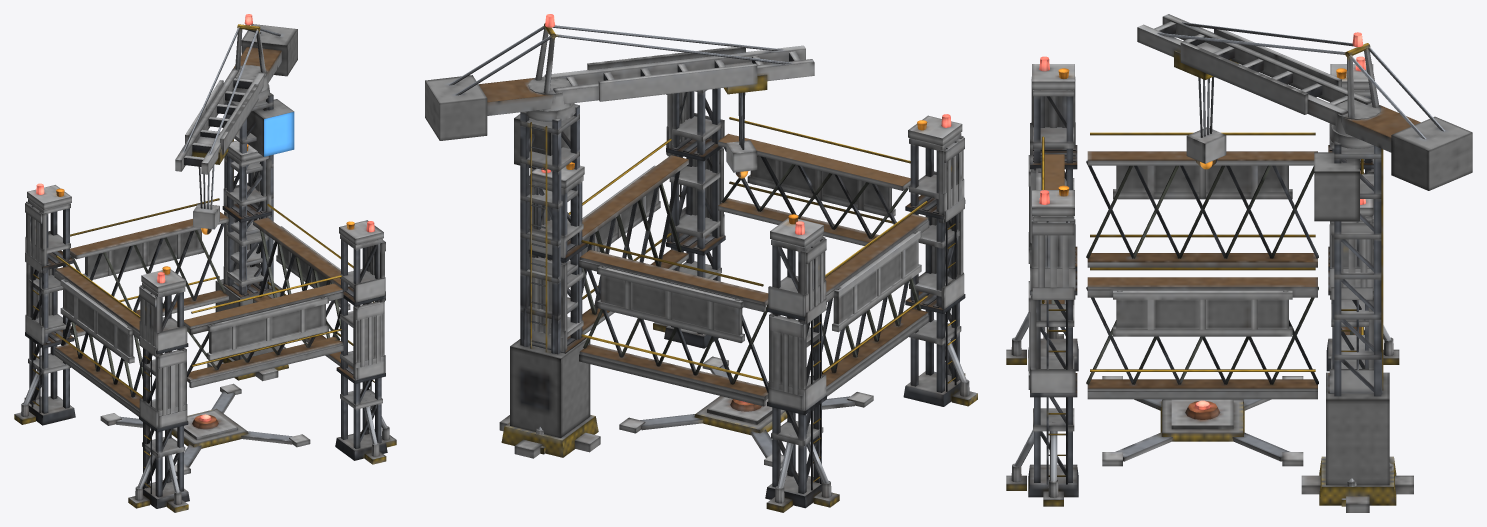
Rendered from soviet_construction_rig.glb.
The picture shows the model from 3 angles, left to right: view 1: azimuth 30°, elevation 25°; view 2: azimuth 150°, elevation 25°; view 3: azimuth 270°, elevation 25°; orthographic projection. The views are drawn at different scales.
Parts seen in each view (by area): view 1: CornerTower_SW, SpanBeam_S, CornerTower_SE, CornerTower_NW, CraneJib, SpanBeam_W, SpanBeam_N, CraneMast, CornerTower_NE, SpanBeam_E, Hull; view 2: CraneJib, CraneMast, SpanBeam_N, CornerTower_NW, CornerTower_SW, SpanBeam_S, SpanBeam_W, CornerTower_SE, SpanBeam_E, CornerTower_NE, Hull; view 3: CraneJib, SpanBeam_E, CraneMast, SpanBeam_W, CornerTower_SE, CornerTower_SW, Hull, CornerTower_NE, CornerTower_NW, SpanBeam_S.
Part boxes in pixels (x1=…): CornerTower_SW: x1=128, y1=266, x2=189, y2=512; SpanBeam_S: x1=184, y1=275, x2=343, y2=387; CornerTower_SE: x1=335, y1=220, x2=396, y2=464; CornerTower_NW: x1=14, y1=183, x2=75, y2=425; CraneJib: x1=175, y1=14, x2=297, y2=234; SpanBeam_W: x1=54, y1=255, x2=142, y2=416; SpanBeam_N: x1=70, y1=198, x2=228, y2=336; CraneMast: x1=207, y1=84, x2=294, y2=381; CornerTower_NE: x1=222, y1=140, x2=271, y2=297; SpanBeam_E: x1=253, y1=204, x2=353, y2=366; Hull: x1=100, y1=383, x2=310, y2=475; CraneJib: x1=425, y1=14, x2=814, y2=178; CraneMast: x1=499, y1=103, x2=600, y2=458; SpanBeam_N: x1=579, y1=240, x2=768, y2=406; CornerTower_NW: x1=765, y1=214, x2=839, y2=512; CornerTower_SW: x1=903, y1=114, x2=977, y2=406; SpanBeam_S: x1=718, y1=117, x2=910, y2=245; SpanBeam_W: x1=813, y1=201, x2=929, y2=396; CornerTower_SE: x1=653, y1=88, x2=725, y2=348; SpanBeam_E: x1=568, y1=138, x2=688, y2=334; CornerTower_NE: x1=528, y1=162, x2=587, y2=454; Hull: x1=619, y1=356, x2=873, y2=468; CraneJib: x1=1137, y1=14, x2=1472, y2=190; SpanBeam_E: x1=1086, y1=267, x2=1318, y2=399; CraneMast: x1=1301, y1=124, x2=1413, y2=512; SpanBeam_W: x1=1086, y1=132, x2=1318, y2=267; CornerTower_SE: x1=1006, y1=185, x2=1078, y2=506; CornerTower_SW: x1=1006, y1=56, x2=1078, y2=371; Hull: x1=1102, y1=376, x2=1303, y2=466; CornerTower_NE: x1=1328, y1=199, x2=1393, y2=506; CornerTower_NW: x1=1326, y1=56, x2=1399, y2=371; SpanBeam_S: x1=1036, y1=136, x2=1064, y2=330.
Size of what is drawn, in the model's own units: 6.32 by 6.8 by 6.32.
Materials: 1 (1 with a texture image).
